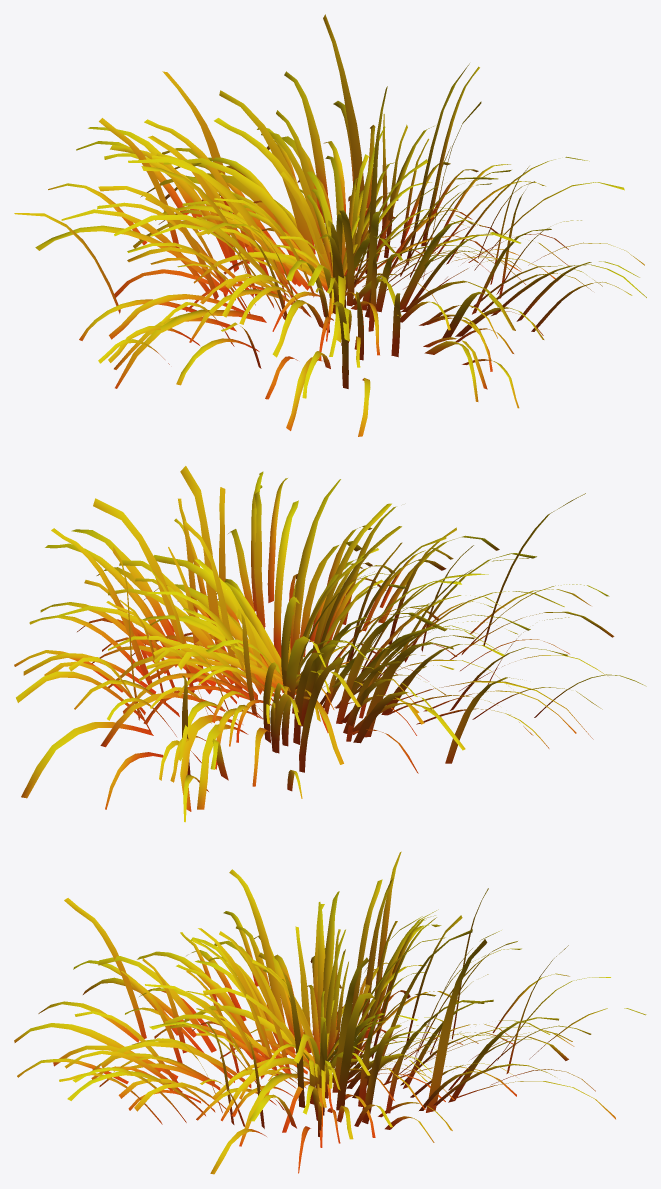
The model's file is Grass_2.fbx.
3 views of the same model, one above another, from view 1: azimuth 30°, elevation 25°; view 2: azimuth 150°, elevation 25°; view 3: azimuth 270°, elevation 25° (orthographic). The views are drawn at different scales.
Visible parts, largest first — view 1: grass; view 2: grass; view 3: grass.
Part boxes in pixels (<box>): grass: <box>14,14,646,436</box>; grass: <box>14,466,646,822</box>; grass: <box>14,851,646,1174</box>.
Bounding box in the file's own units: 347 × 122 × 391.
